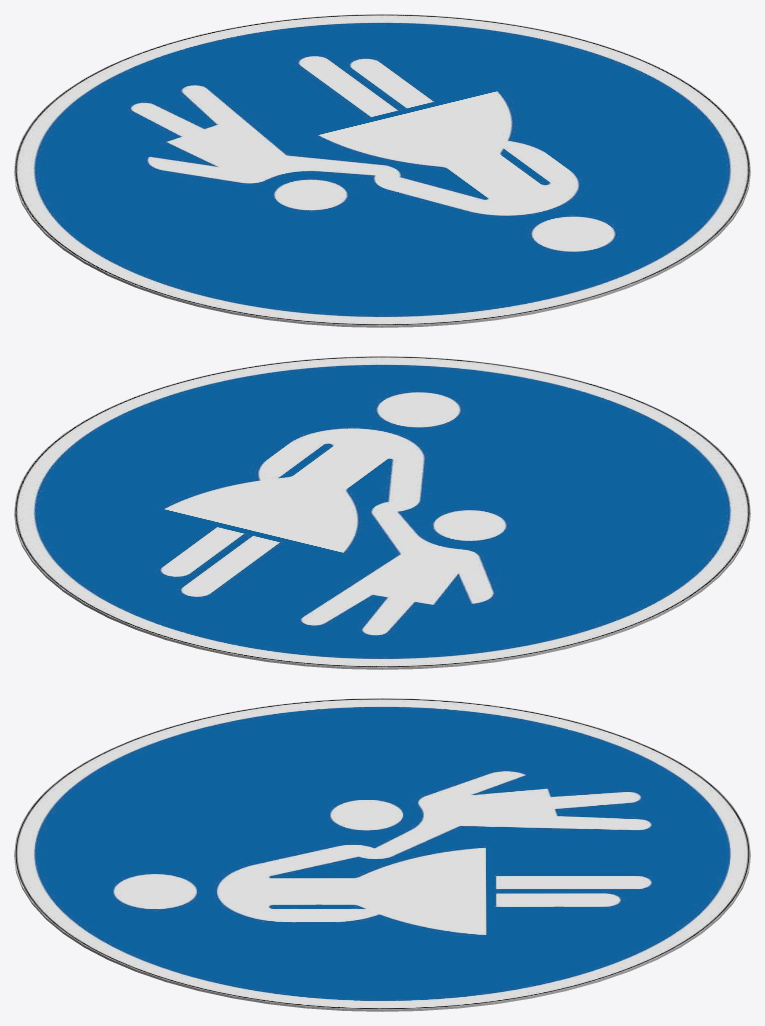
3 renders of one model, top to bottom at view 1: azimuth 30°, elevation 25°; view 2: azimuth 150°, elevation 25°; view 3: azimuth 270°, elevation 25°, orthographic.
Visible parts, largest first — view 1: Circle_Schild_Rund; view 2: Circle_Schild_Rund; view 3: Circle_Schild_Rund.
Part boxes in pixels (x1=…): Circle_Schild_Rund: x1=14, y1=14, x2=750, y2=327; Circle_Schild_Rund: x1=14, y1=356, x2=750, y2=669; Circle_Schild_Rund: x1=14, y1=698, x2=750, y2=1011.
Bounding box in the file's own units: 0.6 × 0.002 × 0.6.
2 materials, 1 textured.
